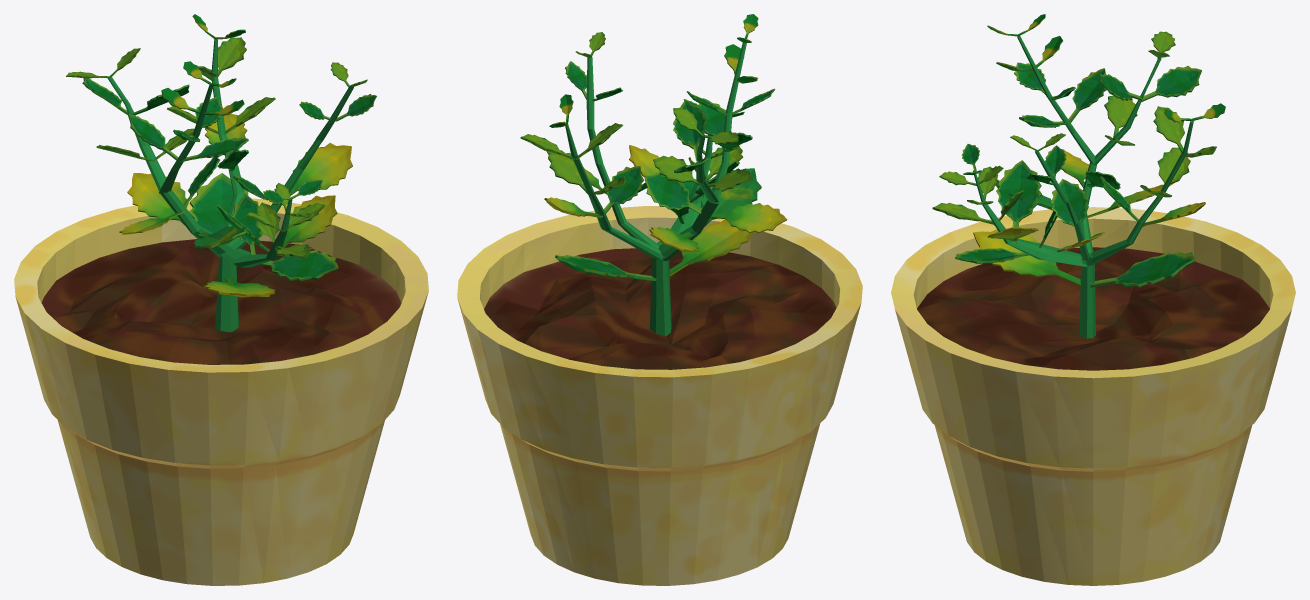
File: Kalanchoe_Bad_End.glb
3 renders of one model, left to right at view 1: azimuth 30°, elevation 25°; view 2: azimuth 150°, elevation 25°; view 3: azimuth 270°, elevation 25°, orthographic. The views are drawn at different scales.
Visible parts, largest first — view 1: Pot, Cylinder; view 2: Pot, Cylinder; view 3: Pot, Cylinder.
Part boxes in pixels (bbox=[...]): Pot: bbox=[14, 198, 428, 585]; Cylinder: bbox=[66, 14, 376, 332]; Pot: bbox=[457, 206, 862, 585]; Cylinder: bbox=[520, 14, 786, 336]; Pot: bbox=[891, 207, 1295, 585]; Cylinder: bbox=[932, 14, 1225, 338].
Bounding box in the file's own units: 2.05 × 2.72 × 2.05.
5 materials, 4 textured.
